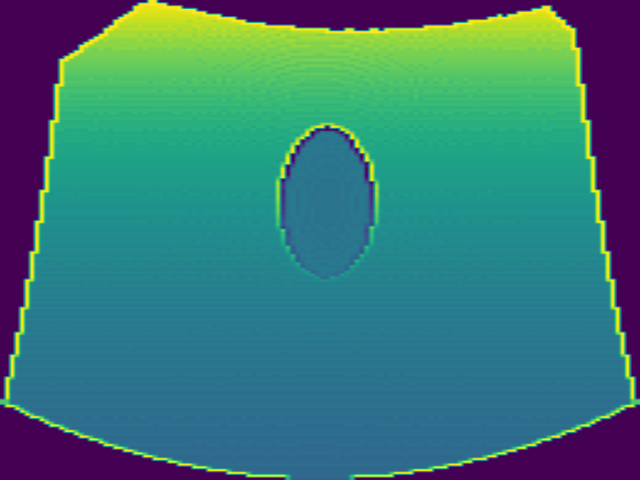sphere: (275, 124, 378, 279)
